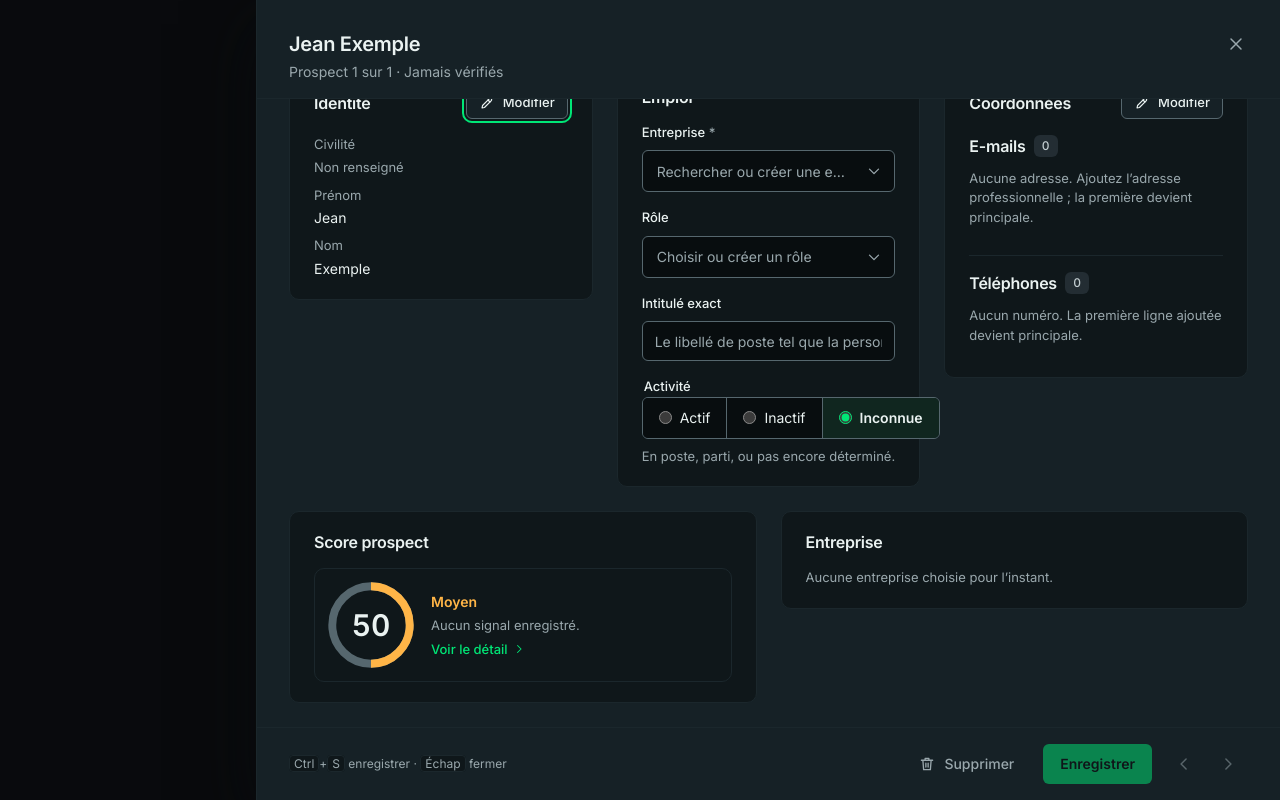
Prospect editor - score card › Escape closes the detail alone: the drawer stays, nothing asks to confirm
(page scrolled)
Expected: the element "Identité" is shown, [289,99,593,300]
Click the button with aria-label "Score prospect" at [523, 625], box [314,568,732,682]
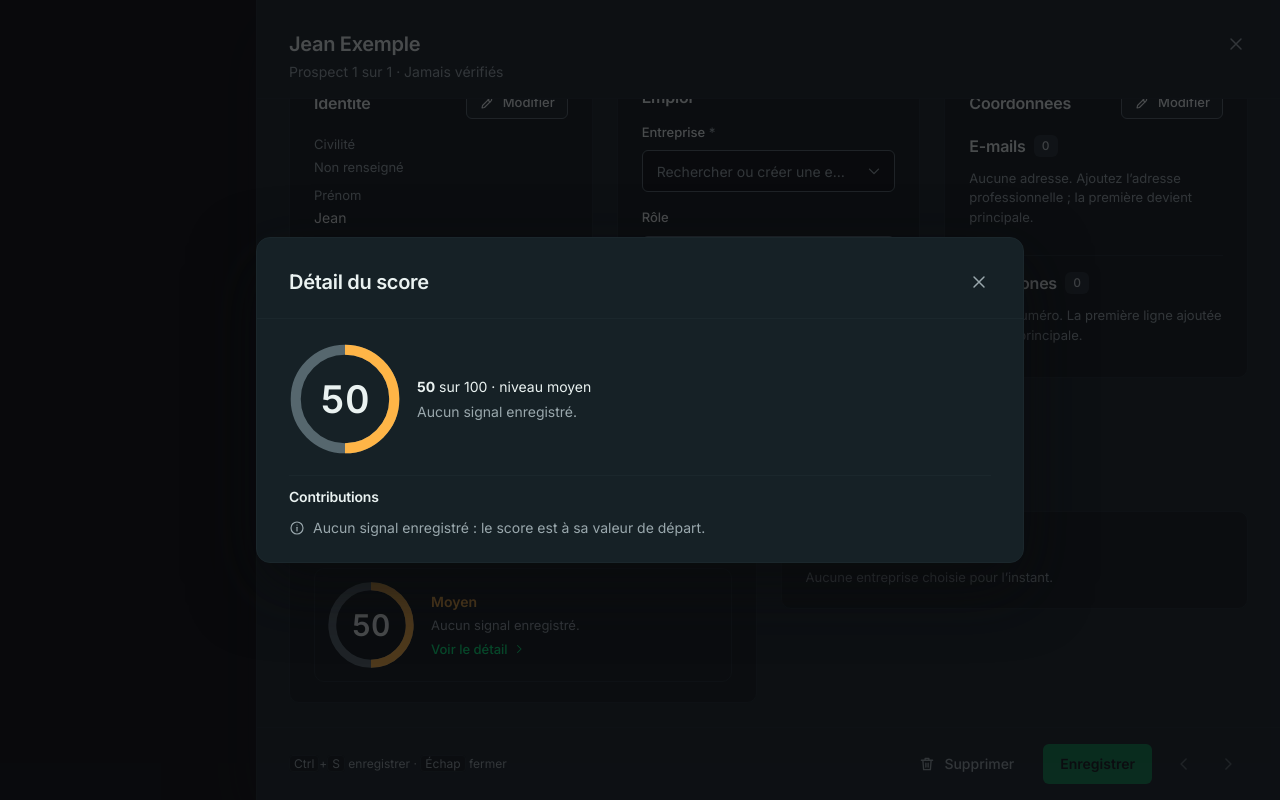
Press Escape
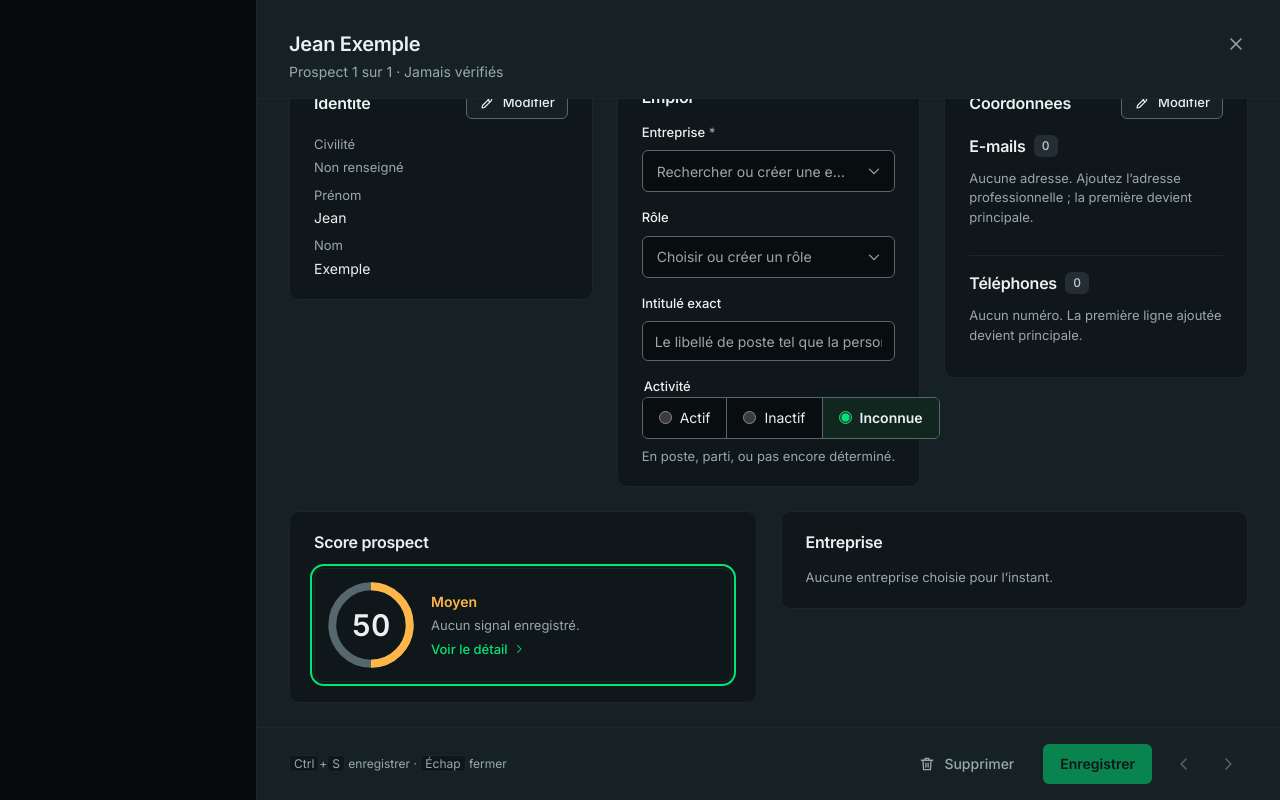
Expected: the element "Identité" is shown, [289,99,593,300]
Result: the heading "Détail du score" is gone
Result: the number of dialogs is 1
